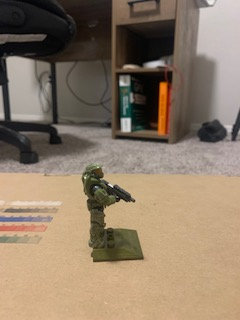soldier: (80, 160, 138, 252)
